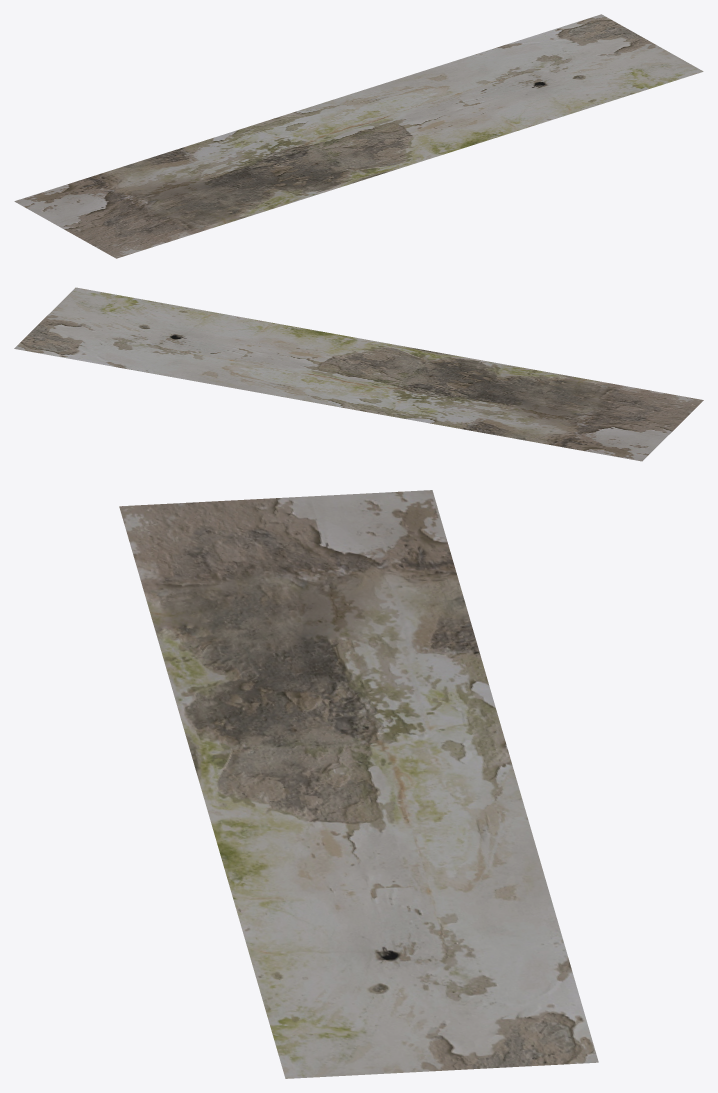
The model's file is Ind_IntCeiling.FBX.
3 renders of one model, top to bottom at view 1: azimuth 30°, elevation 25°; view 2: azimuth 150°, elevation 25°; view 3: azimuth 270°, elevation 25°, orthographic. The views are drawn at different scales.
Parts seen in each view (by area): view 1: Ind_IntCeiling; view 2: Ind_IntCeiling; view 3: Ind_IntCeiling.
Part boxes in pixels (<box>): Ind_IntCeiling: <box>14,14,703,258</box>; Ind_IntCeiling: <box>14,287,703,461</box>; Ind_IntCeiling: <box>119,490,598,1078</box>.
Bounding box in the file's own units: 1589 × 0.000488 × 547.
